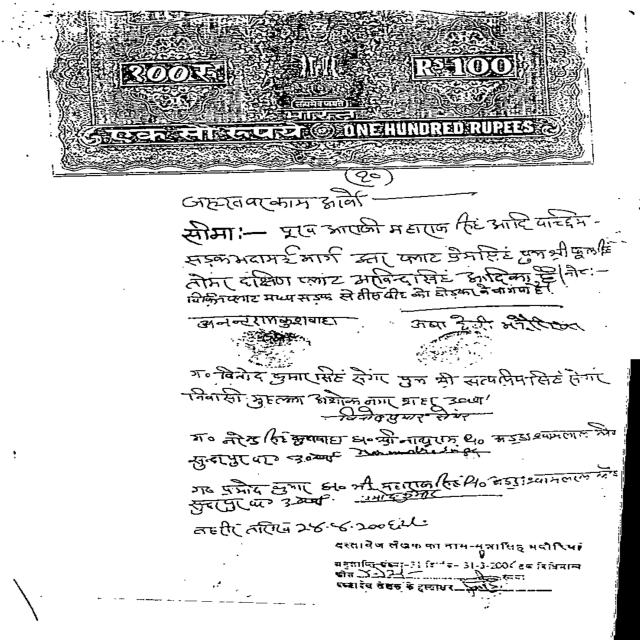afidivitstamp: (49, 10, 596, 164)
